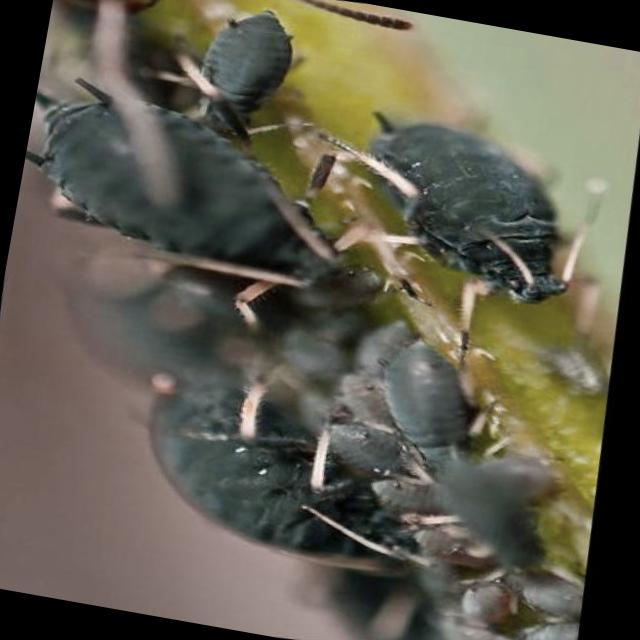aphid: (47, 336, 434, 624), (288, 71, 622, 362), (329, 318, 518, 510)
